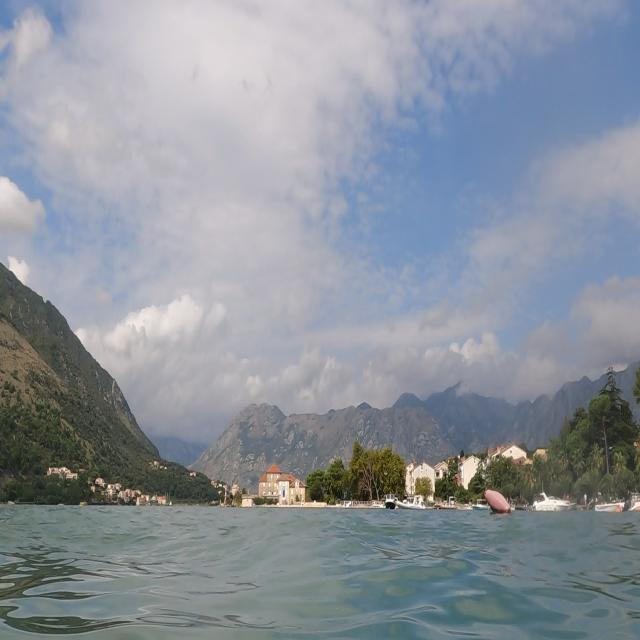buoy: (480, 485, 514, 521)
